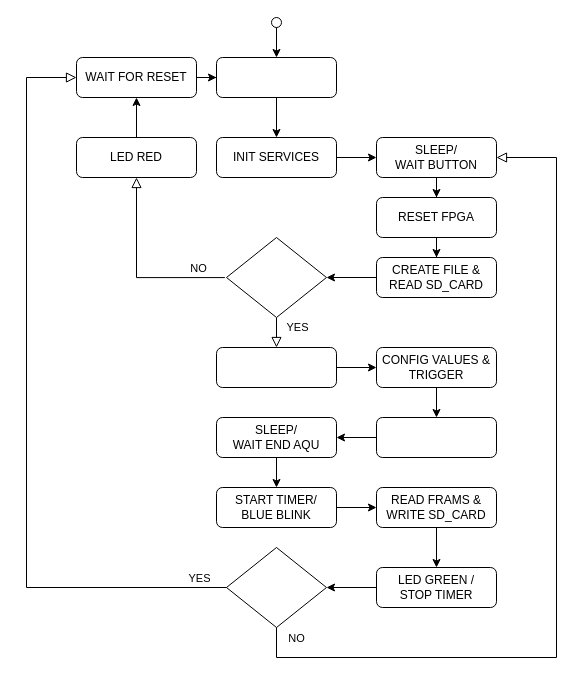
Image size: 584x685. Some labels were removed from this diagram. Each missing label, with the centre of its shape:
"LED BLUE" belongs at (x=276, y=367).
"ON/RESET" belongs at (x=276, y=77).
"PREPARE FRAMS & ADC" belongs at (x=436, y=437).
"READ SD_CARD ?" belongs at (x=276, y=587).
"SD_CARD IN ?" belongs at (x=276, y=277).
